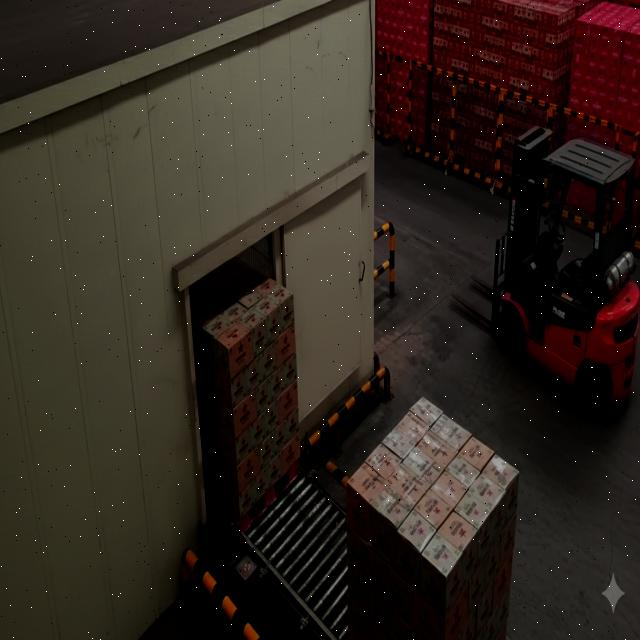pallet: (340, 386, 524, 640), (163, 252, 308, 544)
